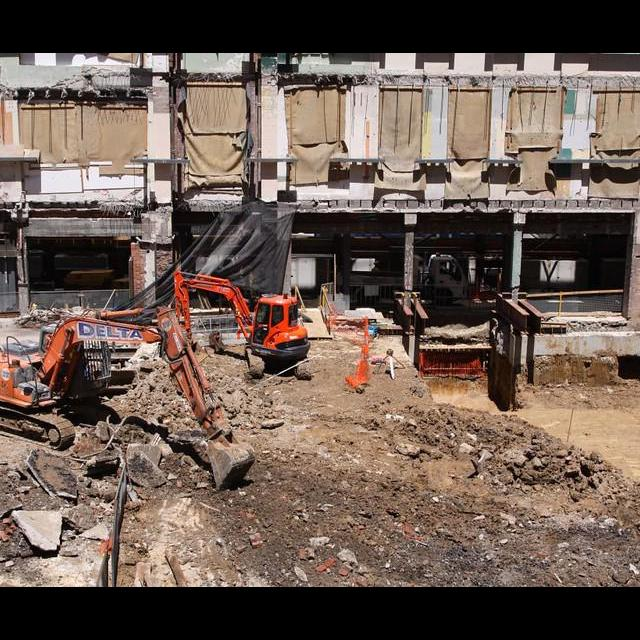Excavator: (0, 319, 255, 492), (172, 268, 313, 384)
Safety Cone: (362, 317, 370, 357)
dump truck: (337, 254, 468, 306)
